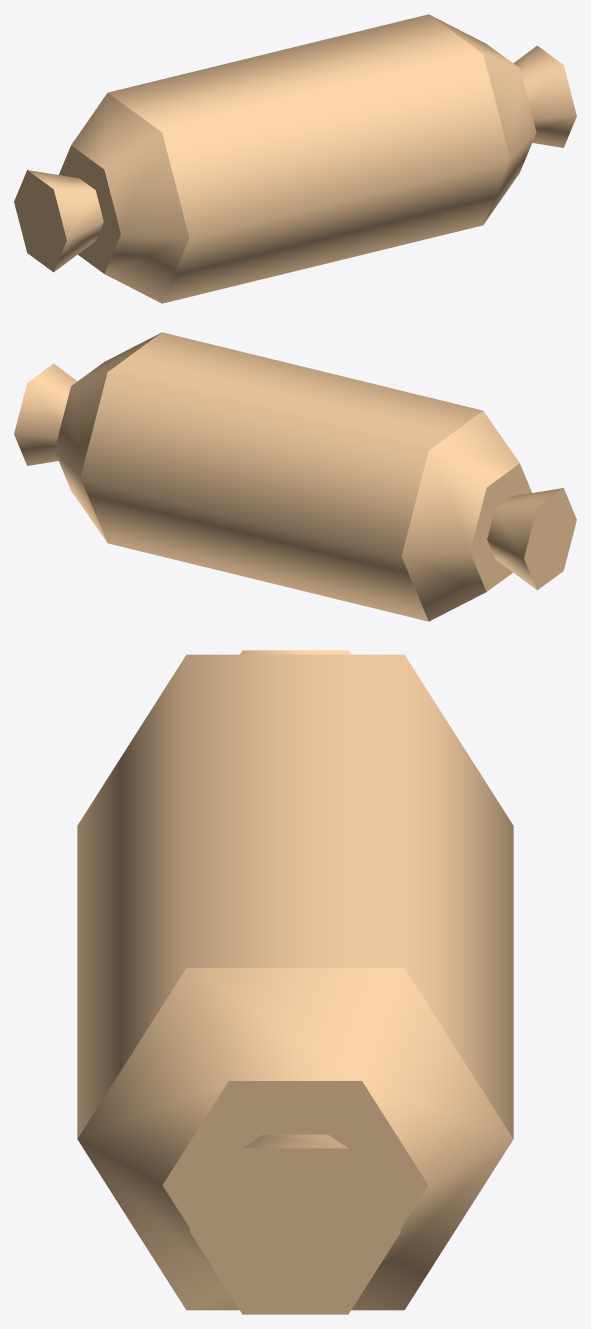
The model's file is Sausage.glb.
3 views of the same model, one above another, from view 1: azimuth 30°, elevation 25°; view 2: azimuth 150°, elevation 25°; view 3: azimuth 270°, elevation 25° (orthographic). The views are drawn at different scales.
Parts seen in each view (by area): view 1: sausage; view 2: sausage; view 3: sausage.
Part boxes in pixels (x1,y1,x2,y2): sausage: (14,14,576,303); sausage: (14,332,576,621); sausage: (77,650,513,1314).
Bounding box in the file's own units: 0.3707 × 0.1189 × 0.1373.
